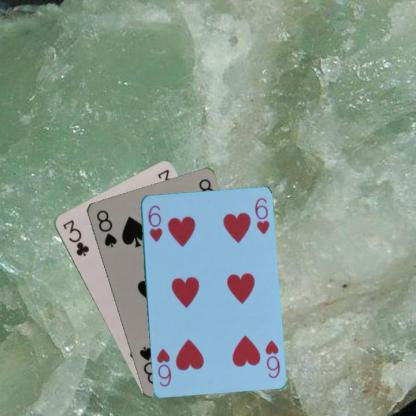3c: (60, 216, 90, 258)
6h: (262, 338, 281, 380), (145, 202, 164, 243)
8s: (93, 207, 118, 248)
